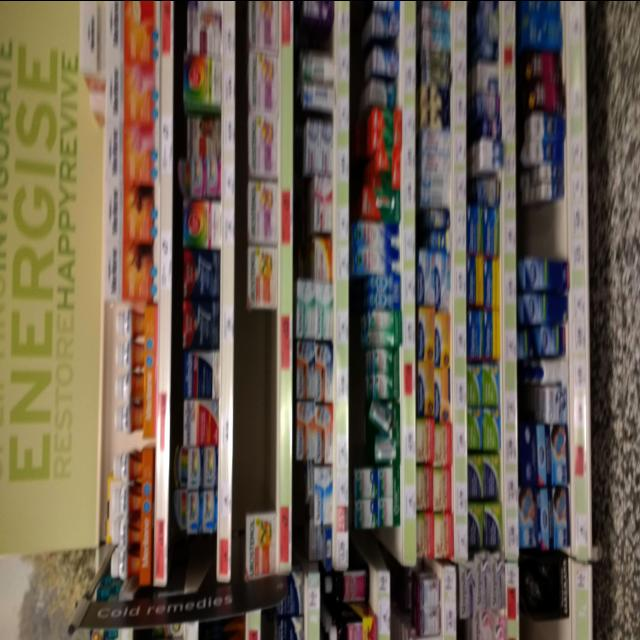empty_space: (232, 314, 276, 513), (524, 208, 567, 256), (360, 527, 396, 565), (521, 382, 547, 424), (300, 26, 328, 58)
